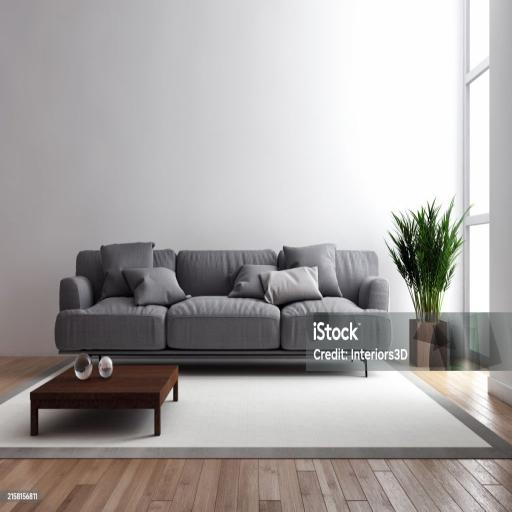back_cushion: (60, 242, 285, 309), (336, 251, 378, 303)
left_arm: (358, 277, 388, 310)
legs: (364, 360, 367, 377), (98, 354, 101, 361)
right_arm: (60, 277, 94, 311)
seat_cushion: (56, 297, 391, 354)
stallion-sofa: (54, 242, 392, 375)
